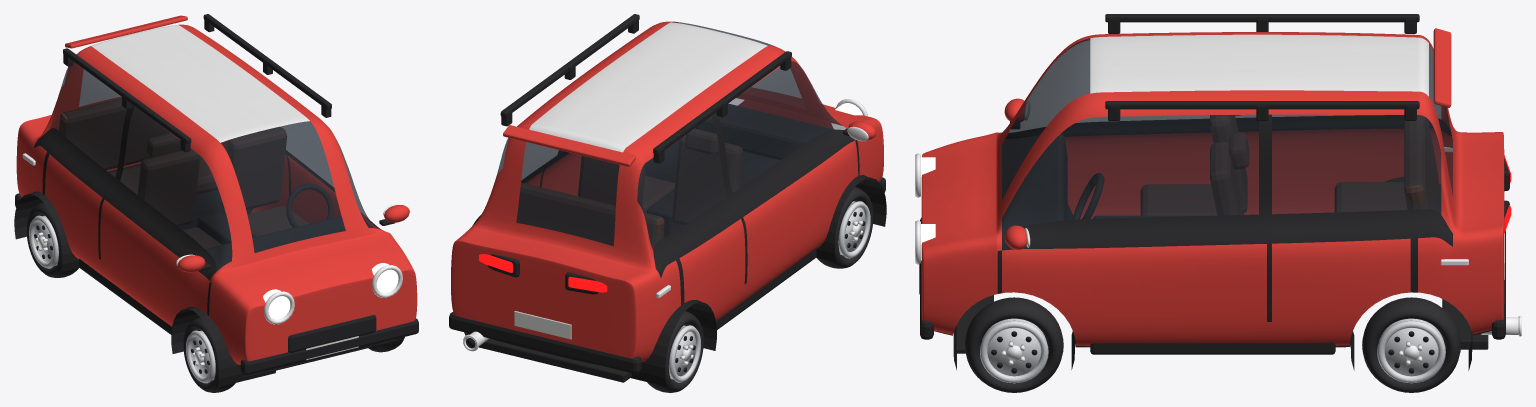
Rendered from kubo.glb.
3 renders of one model, left to right at view 1: azimuth 30°, elevation 25°; view 2: azimuth 150°, elevation 25°; view 3: azimuth 270°, elevation 25°, orthographic. The views are drawn at different scales.
Parts seen in each view (by area): view 1: body, wheel_rr, wheel_fr; view 2: body, wheel_fr, wheel_rr; view 3: body, wheel_fl, wheel_rl.
Boxes of the visible parts, left/top/right/bottom form: body: left=14, top=14, right=418, bottom=387; wheel_rr: left=26, top=202, right=78, bottom=277; wheel_fr: left=183, top=317, right=235, bottom=392; body: left=449, top=14, right=886, bottom=386; wheel_fr: left=817, top=187, right=873, bottom=268; wheel_rr: left=647, top=311, right=703, bottom=392; body: left=915, top=14, right=1521, bottom=370; wheel_fl: left=965, top=297, right=1063, bottom=392; wheel_rl: left=1362, top=297, right=1460, bottom=392.
Size of the model in its own units: 1.91 by 1.75 by 3.43.
